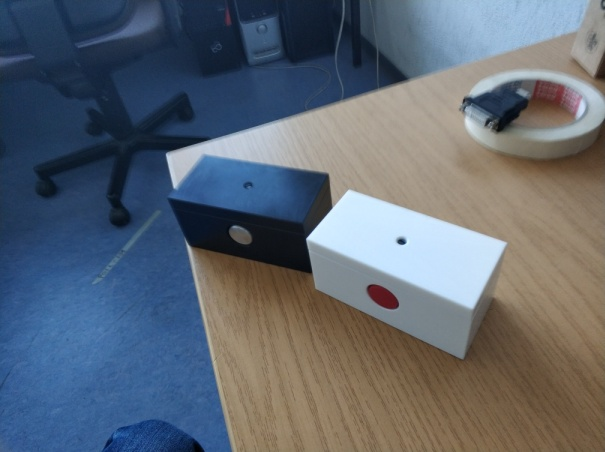black+black+silver: (164, 153, 335, 274)
white+white+red: (303, 188, 512, 362)
